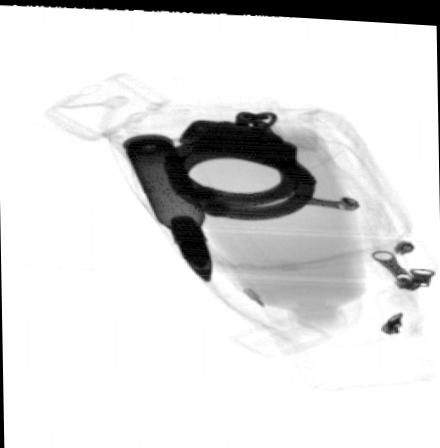Bullet: (120, 133, 214, 279)
HandCuffs: (159, 108, 318, 218)
